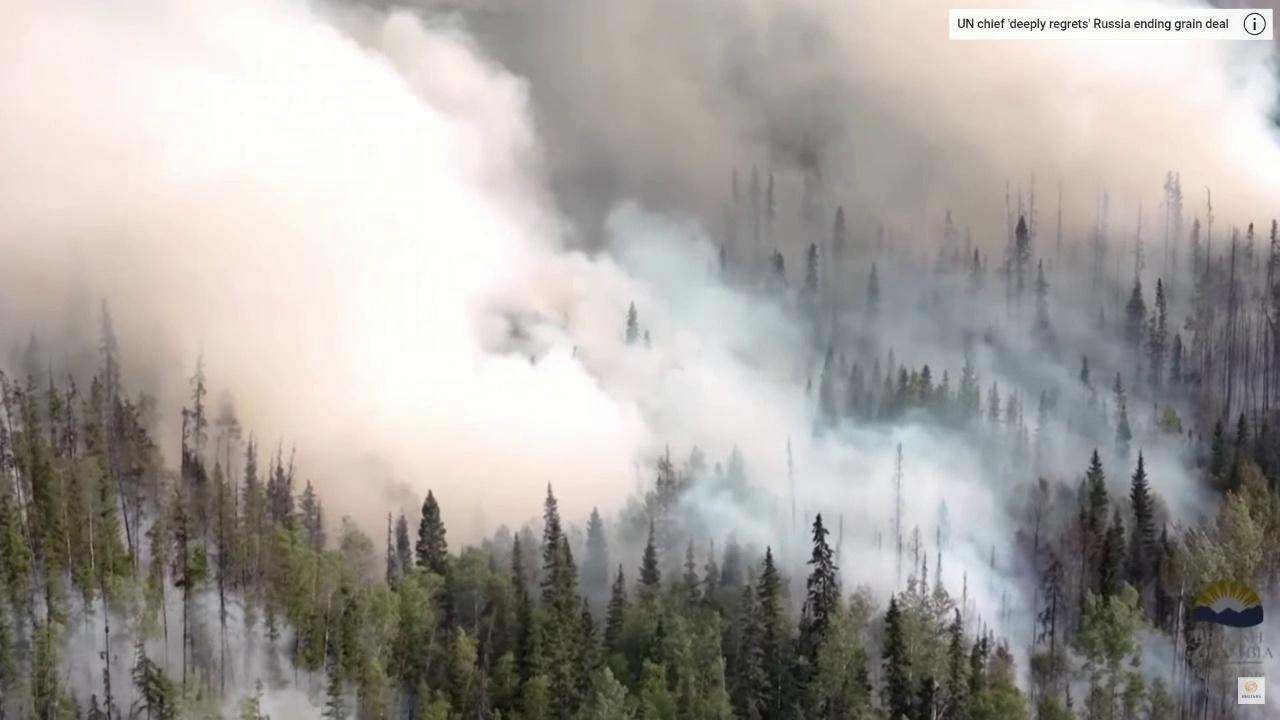smoke: (0, 0, 1280, 720), (0, 485, 364, 720)
